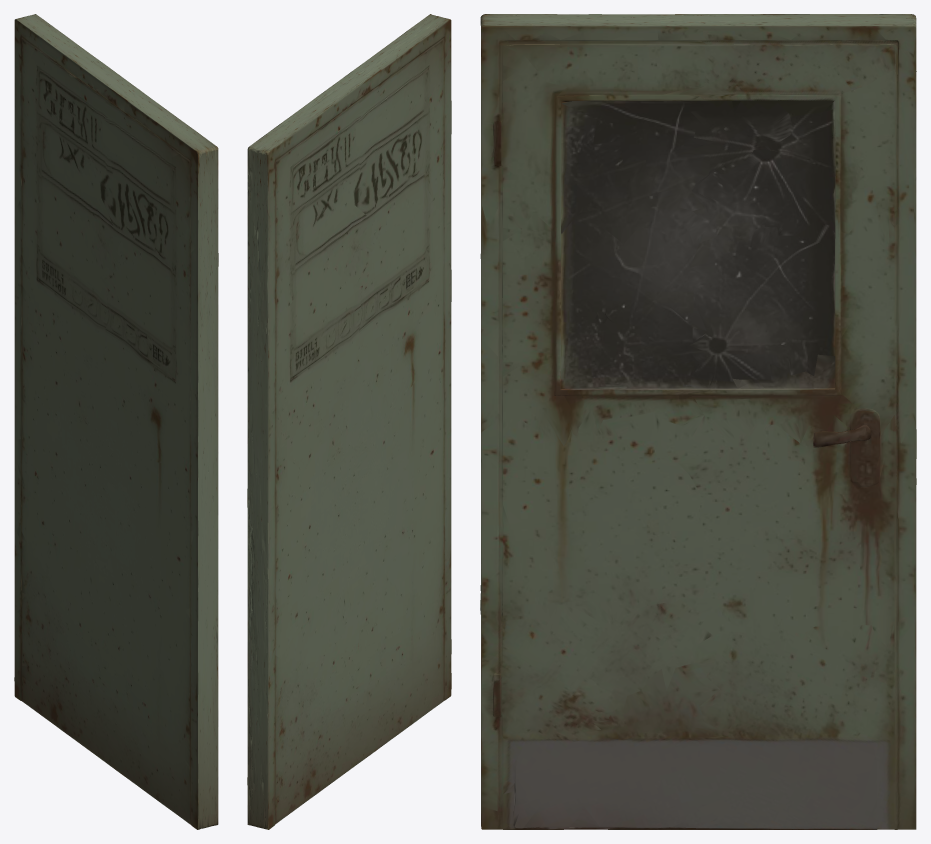
File: puerta1.fbx
3 renders of one model, left to right at view 1: azimuth 30°, elevation 25°; view 2: azimuth 150°, elevation 25°; view 3: azimuth 270°, elevation 25°, orthographic. The views are drawn at different scales.
Parts seen in each view (by area): view 1: tripo_node_a8abc0f8; view 2: tripo_node_a8abc0f8; view 3: tripo_node_a8abc0f8.
Boxes of the visible parts, x1=… form: tripo_node_a8abc0f8: x1=14, y1=14, x2=218, y2=829; tripo_node_a8abc0f8: x1=247, y1=14, x2=451, y2=829; tripo_node_a8abc0f8: x1=480, y1=14, x2=916, y2=829.
Bounding box in the file's own units: 3.44 × 100 × 49.14.
